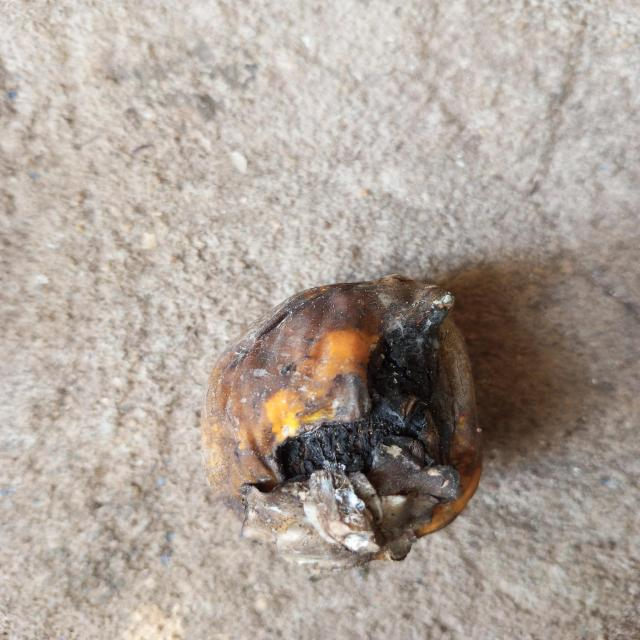damaged: (200, 277, 484, 564)
